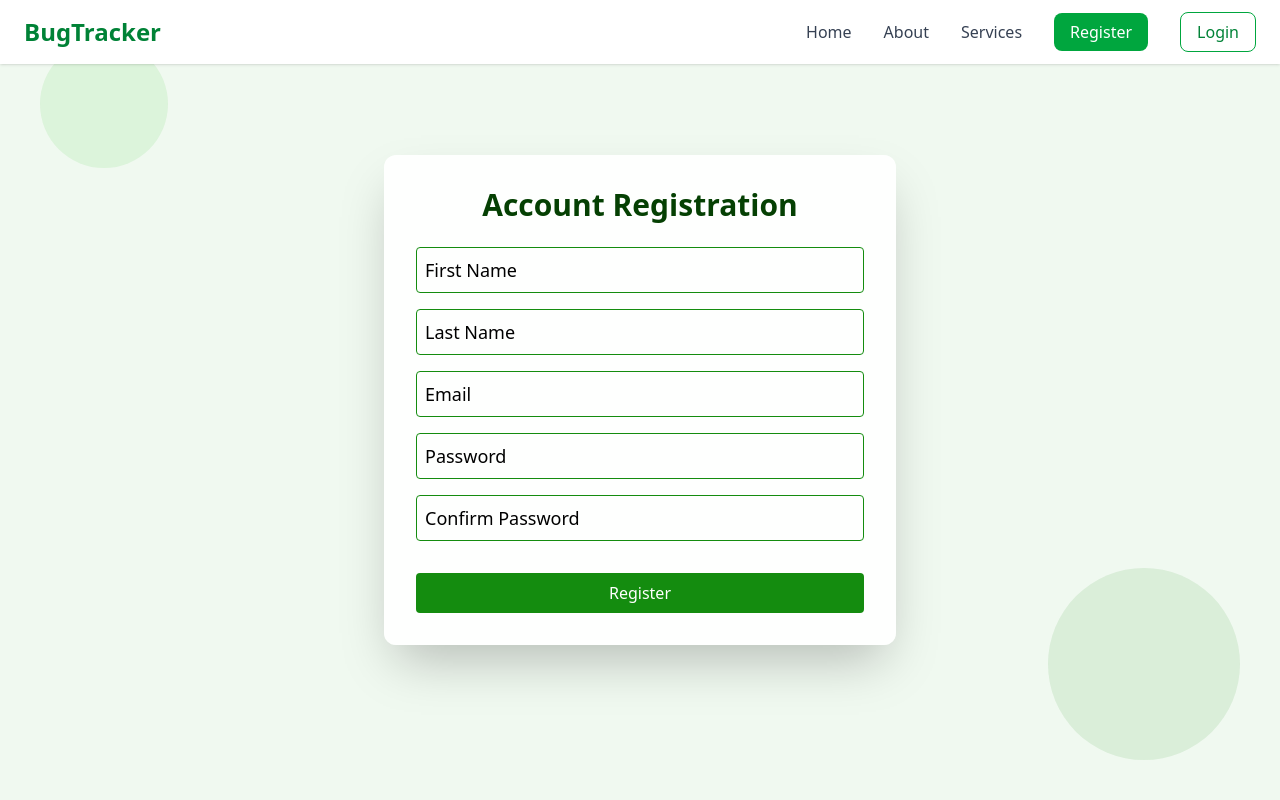
Test: Register Page Tests › should show validation error when passwords do not match
The width and height of the screenshot is (1280, 800).
Type "Agnes" into the field with test id "register-first-name".
click(640, 270); type("Agnes")  # box [416, 247, 864, 293]
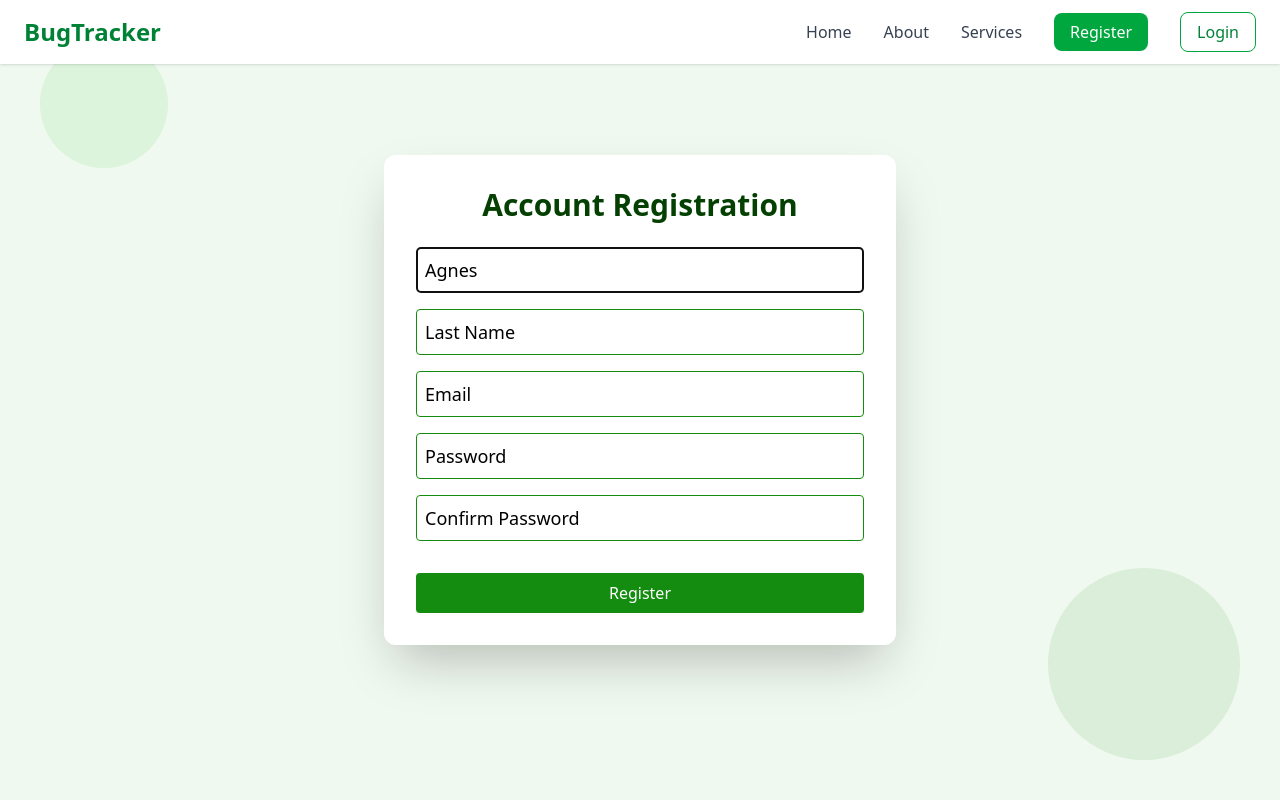
Type "Kitua" into the field with test id "register-last-name".
click(640, 332); type("Kitua")  # box [416, 309, 864, 355]
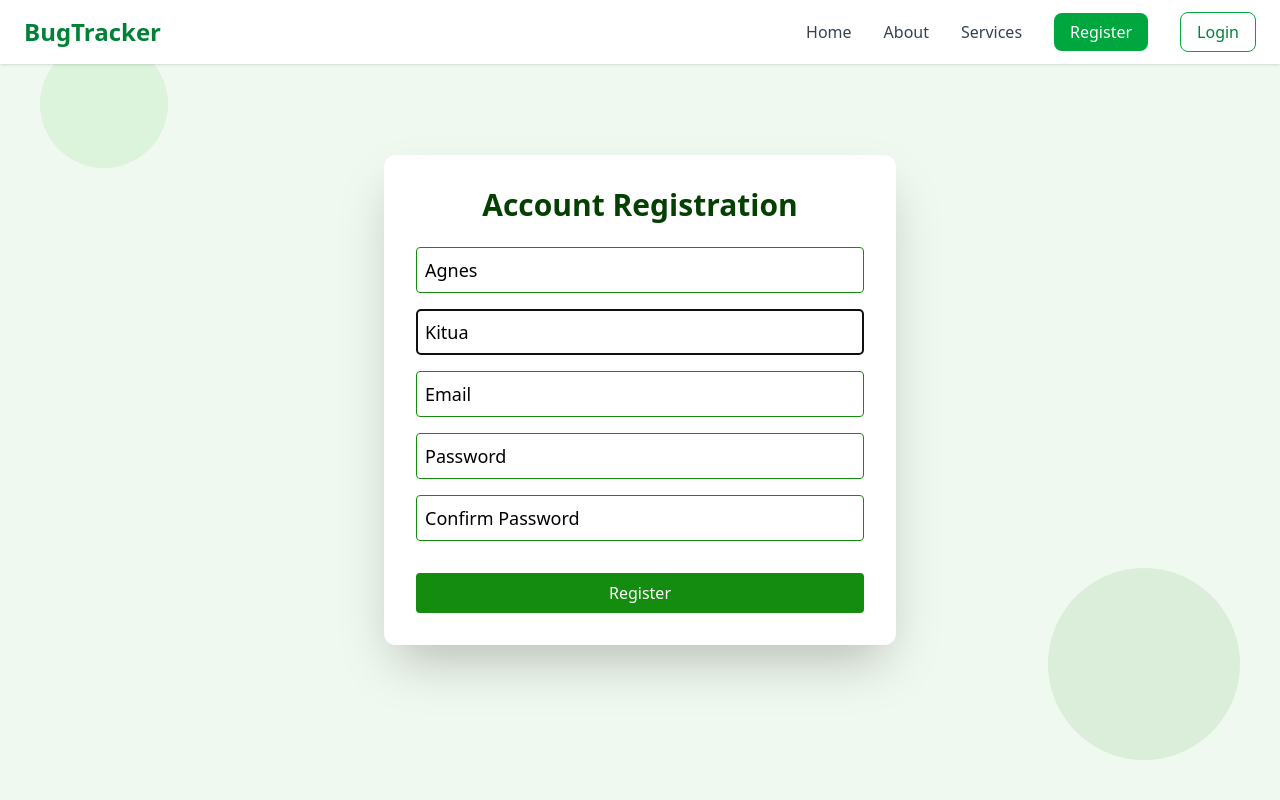
Type "agnes@test.com" into the field with test id "register-email".
click(640, 394); type("agnes@test.com")  # box [416, 371, 864, 417]
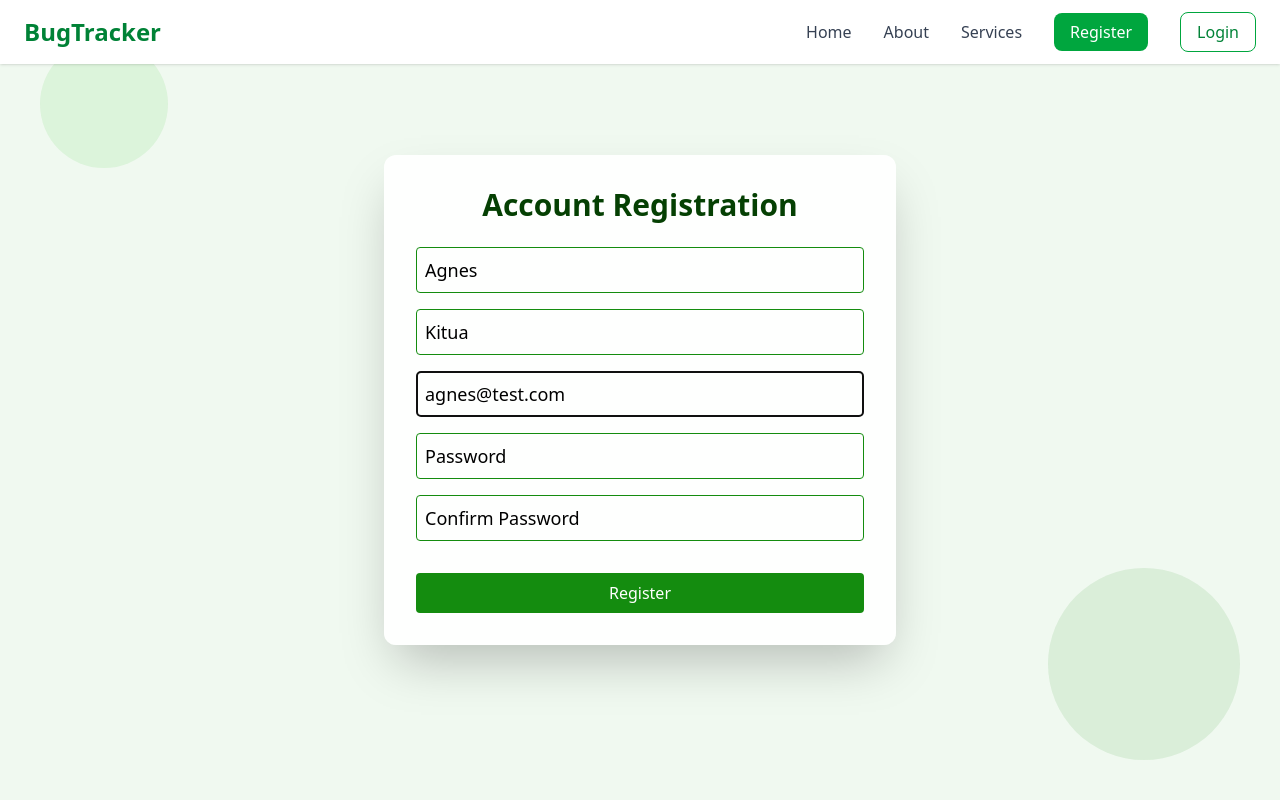
Type "password123" into the password field with test id "register-password".
click(640, 456); type("password123")  # box [416, 433, 864, 479]
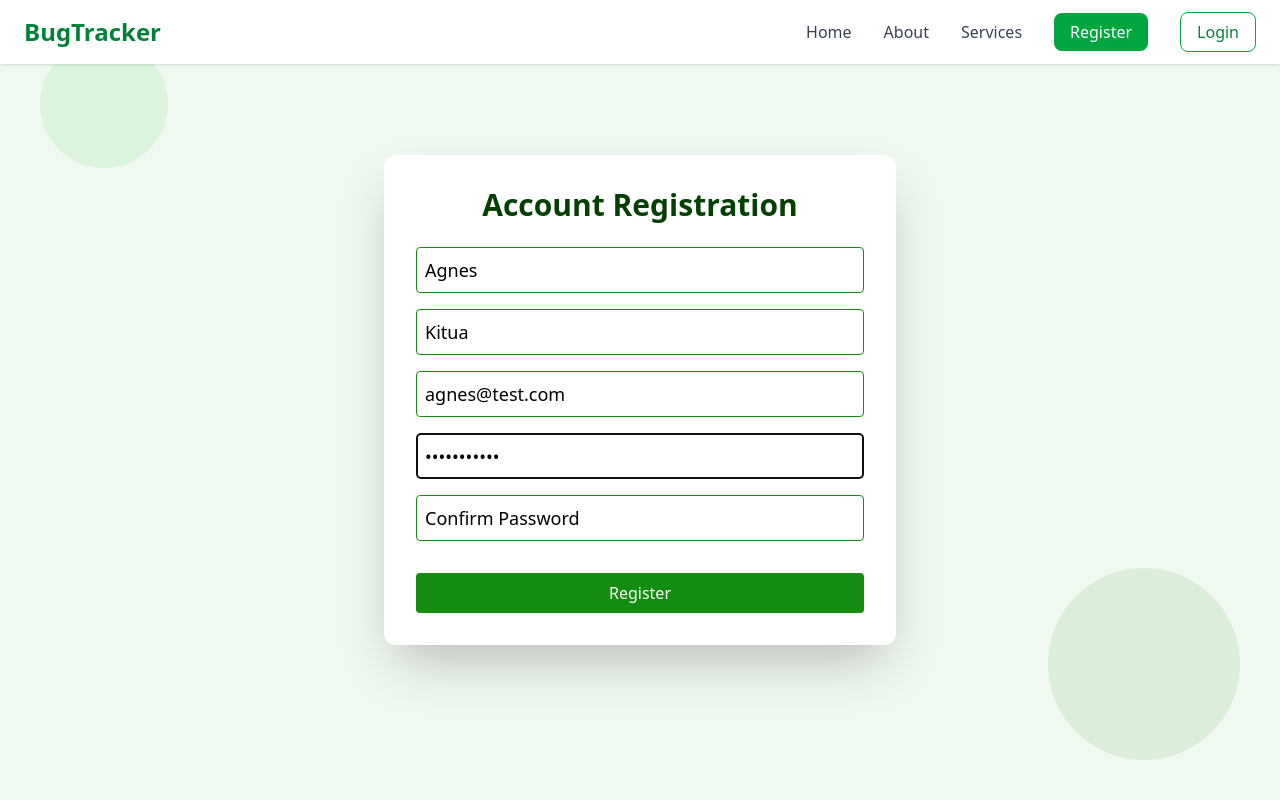
Type "password321" into the password field with test id "register-confirm-password".
click(640, 518); type("password321")  # box [416, 495, 864, 541]
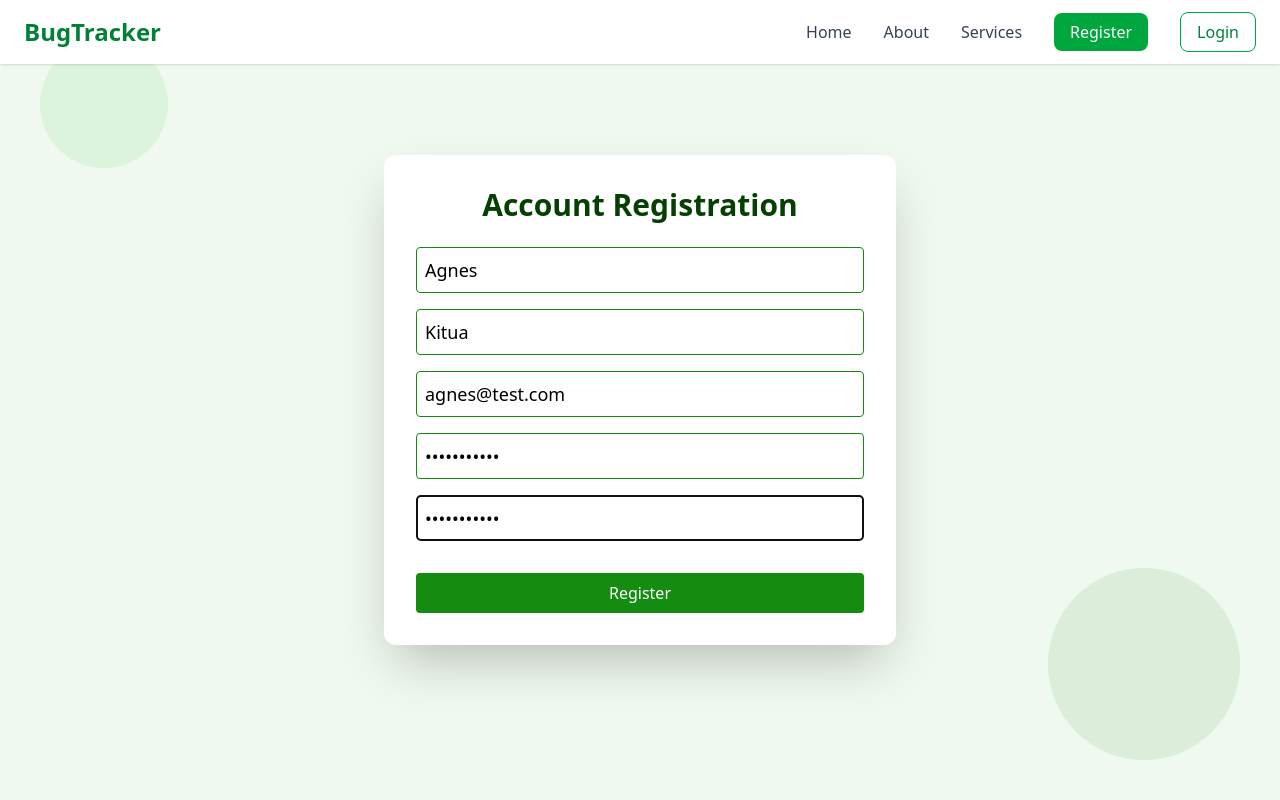
Click the button with test id "register-submit".
click(640, 593)  # box [416, 573, 864, 613]
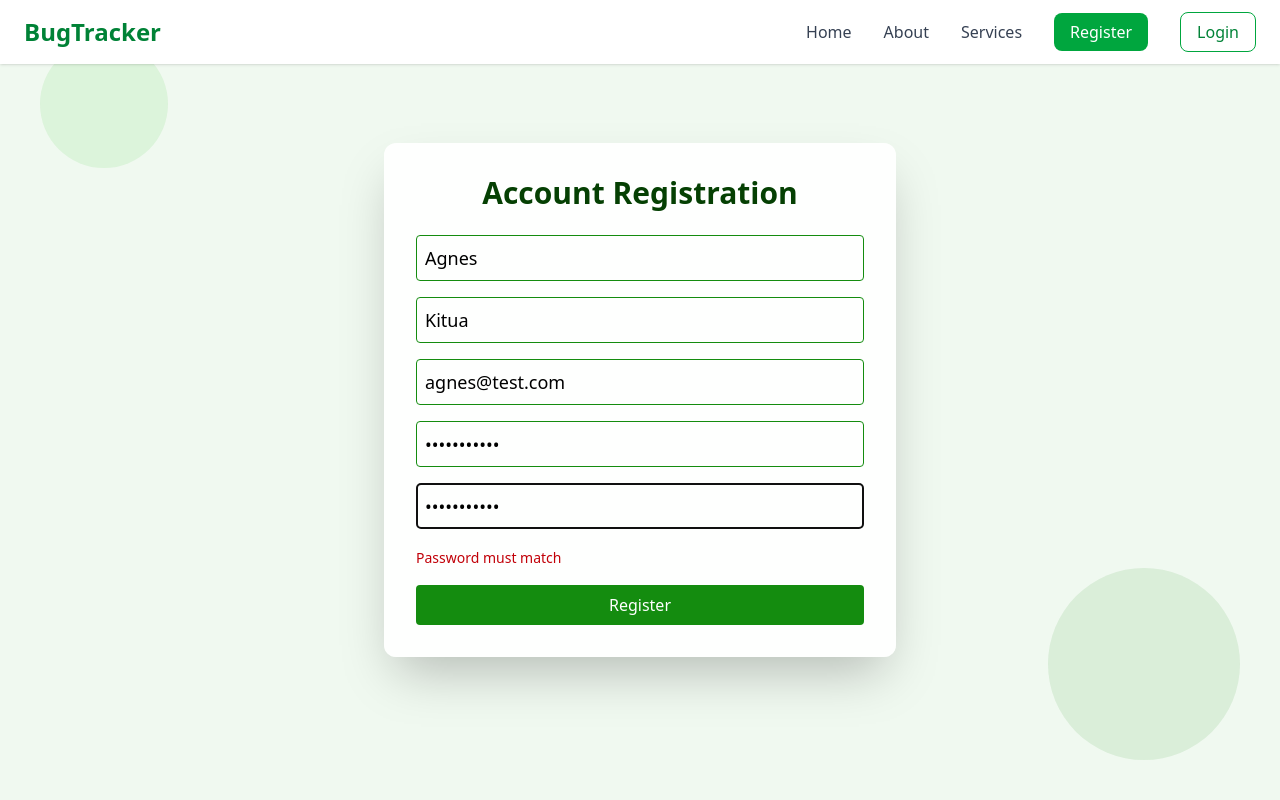
Check: the text "Password must match" is shown, box [416, 548, 562, 567]
